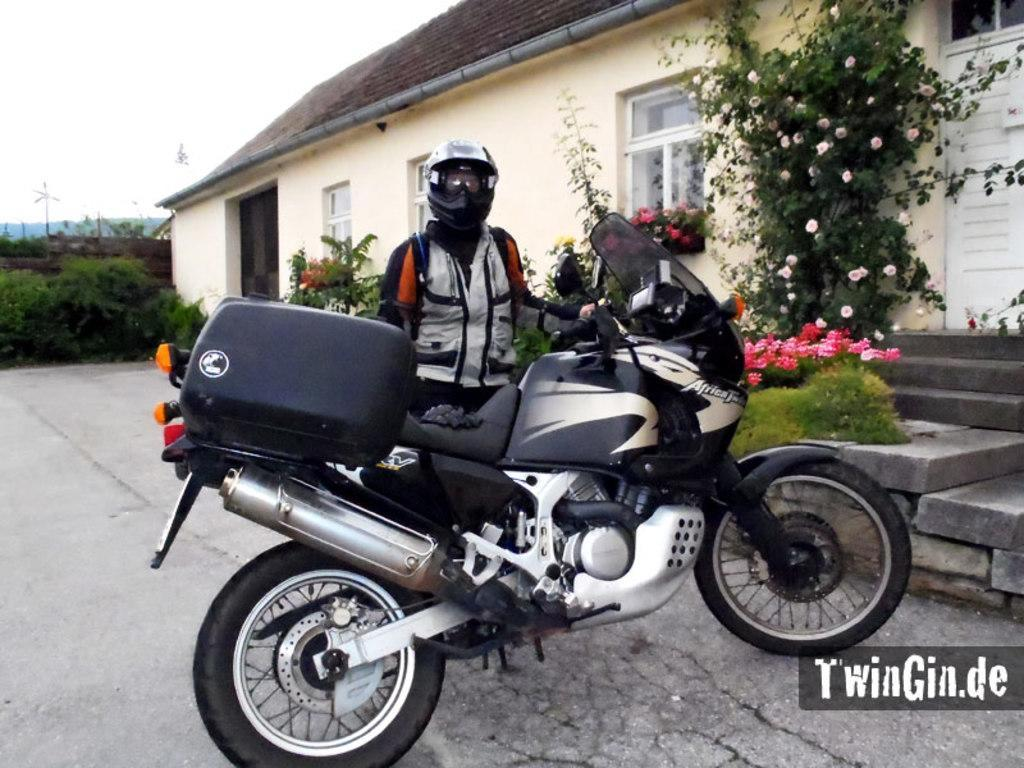helmet: (422, 136, 500, 232)
